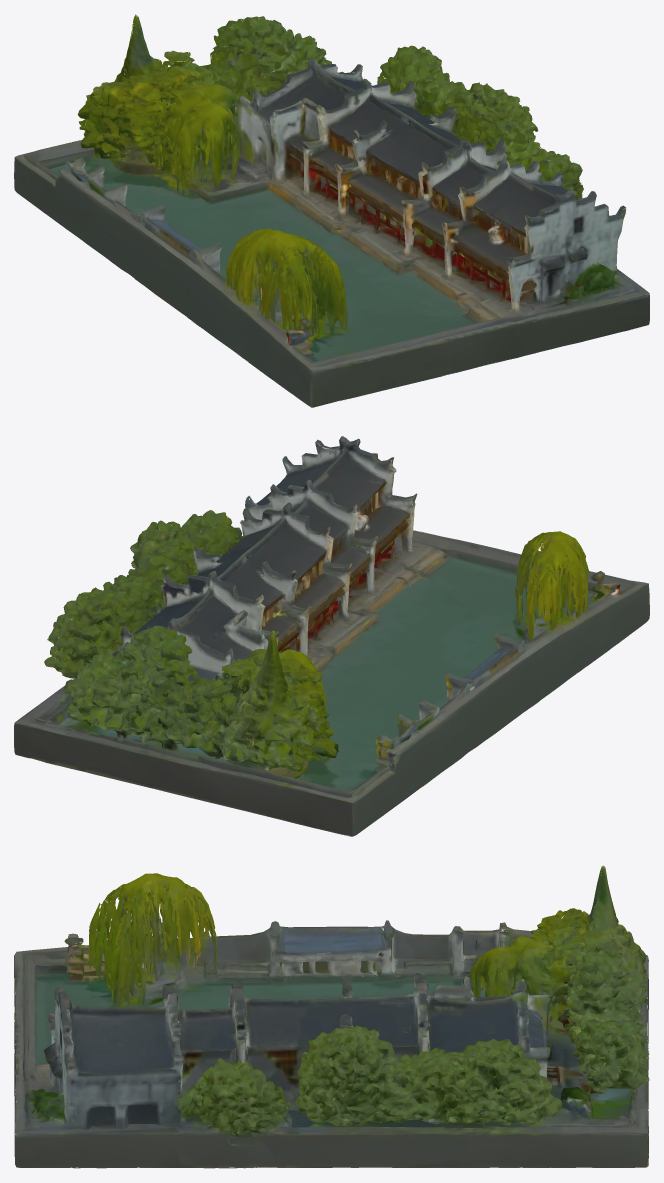
Rendered from nanxun.glb.
The picture shows the model from 3 angles, top to bottom: view 1: azimuth 30°, elevation 25°; view 2: azimuth 150°, elevation 25°; view 3: azimuth 270°, elevation 25°; orthographic projection. The views are drawn at different scales.
Parts seen in each view (by area): view 1: nanxun_lux3d; view 2: nanxun_lux3d; view 3: nanxun_lux3d.
Boxes of the visible parts, box(x1,y1,x2,y2) form: nanxun_lux3d: box(14, 14, 649, 407); nanxun_lux3d: box(14, 436, 649, 836); nanxun_lux3d: box(14, 865, 649, 1168).
Bounding box in the file's own units: 4.36 × 1.87 × 6.
2 materials, 1 textured.
